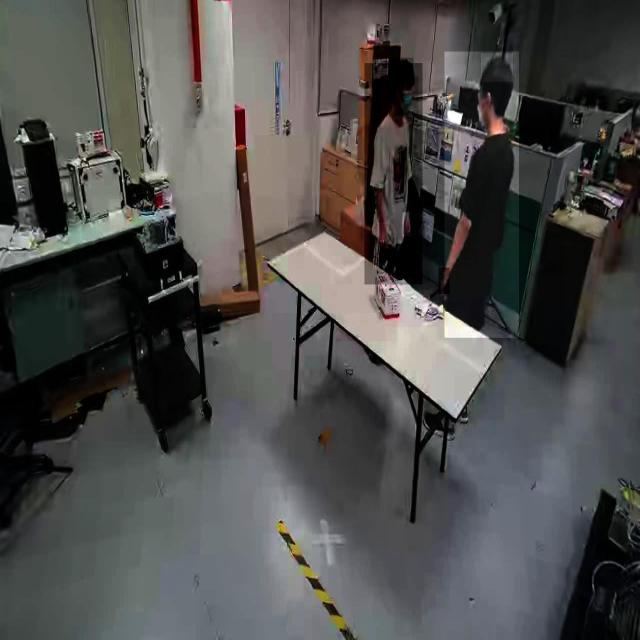face_mask: (395, 76, 419, 115)
hand_noglove: (377, 222, 389, 250), (438, 268, 450, 295), (402, 212, 412, 238)
head_nohelmet: (481, 53, 513, 83), (392, 58, 414, 77)
person: (444, 52, 520, 338), (365, 63, 423, 285)
